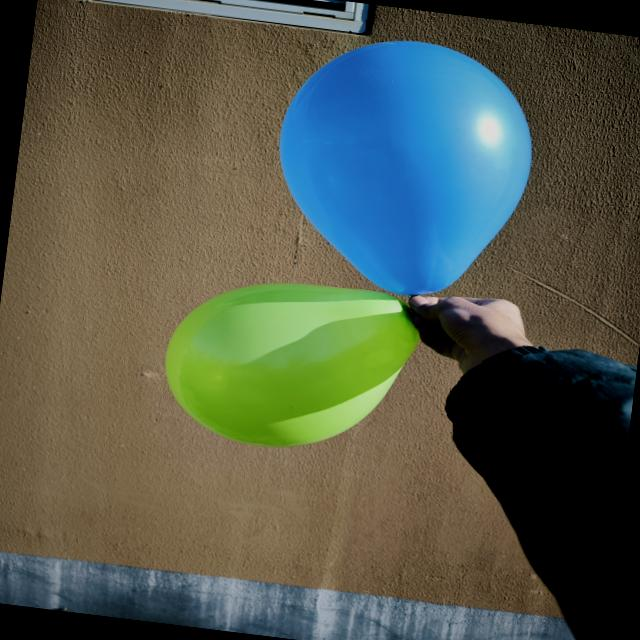balloon: (280, 41, 531, 294), (165, 283, 418, 446)
